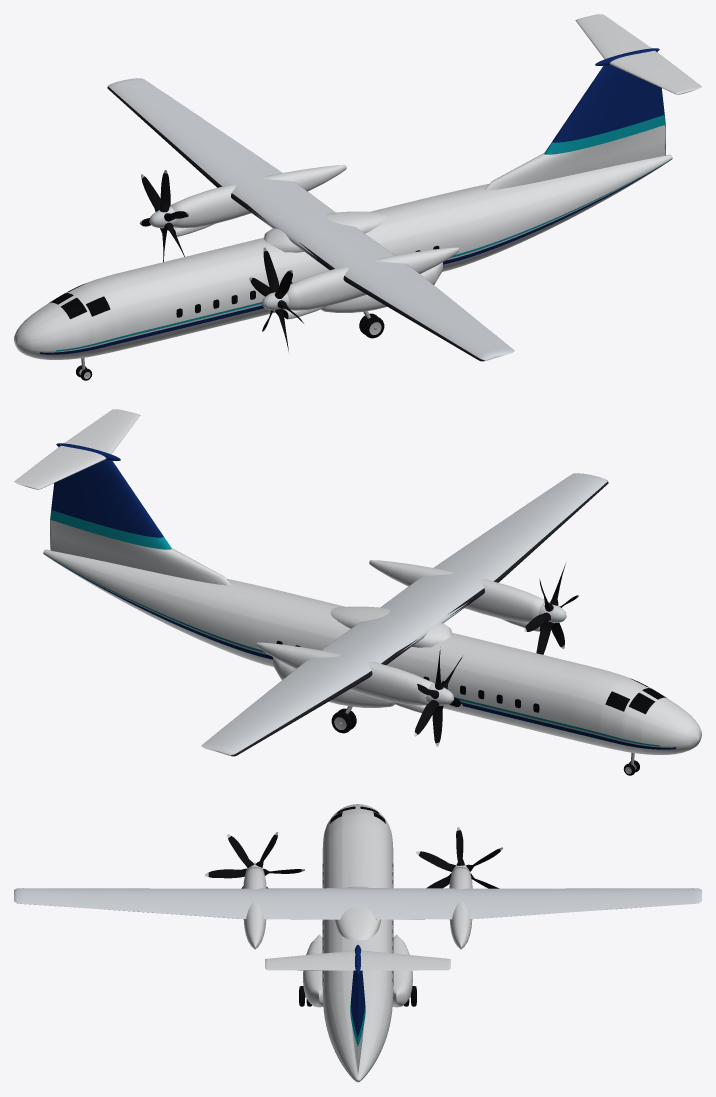
File: turboprop_atr72.light.glb
3 views of the same model, one above another, from view 1: azimuth 30°, elevation 25°; view 2: azimuth 150°, elevation 25°; view 3: azimuth 270°, elevation 25° (orthographic). The views are drawn at different scales.
Visible parts, largest first — view 1: fuselage__atr_white, wing__wing_grey, fin__livery_navy, fin__atr_white, horizontal_tail, nacelle_port, nacelle_starboard, fuselage__livery_navy, wing__deice, wing_fairing, fin__livery_teal, sponson_port (+2 smaller); view 2: fuselage__atr_white, wing__wing_grey, fin__livery_navy, fin__atr_white, horizontal_tail, nacelle_starboard, nacelle_port, wing__deice, fuselage__livery_navy, wing_fairing, fin__livery_teal, sponson_starboard (+2 smaller); view 3: wing__wing_grey, fuselage__atr_white, horizontal_tail, nacelle_port, nacelle_starboard, wing_fairing, sponson_port, sponson_starboard, fin__livery_navy.
Boxes of the visible parts, left/top/right/bottom form: fuselage__atr_white: left=14, top=154, right=672, bottom=359; wing__wing_grey: left=108, top=78, right=514, bottom=361; fin__livery_navy: left=552, top=51, right=664, bottom=142; fin__atr_white: left=485, top=124, right=665, bottom=190; horizontal_tail: left=575, top=14, right=701, bottom=94; nacelle_port: left=286, top=247, right=458, bottom=310; nacelle_starboard: left=170, top=165, right=346, bottom=228; fuselage__livery_navy: left=39, top=159, right=671, bottom=354; wing__deice: left=107, top=85, right=484, bottom=361; wing_fairing: left=264, top=211, right=385, bottom=252; fin__livery_teal: left=544, top=115, right=665, bottom=154; sponson_port: left=320, top=262, right=442, bottom=312; fuselage__atr_white: left=43, top=549, right=701, bottom=754; wing__wing_grey: left=201, top=473, right=607, bottom=756; fin__livery_navy: left=51, top=446, right=163, bottom=537; fin__atr_white: left=50, top=519, right=230, bottom=585; horizontal_tail: left=14, top=409, right=140, bottom=489; nacelle_starboard: left=257, top=642, right=434, bottom=705; nacelle_port: left=369, top=560, right=544, bottom=622; wing__deice: left=231, top=480, right=608, bottom=756; fuselage__livery_navy: left=44, top=554, right=676, bottom=749; wing_fairing: left=330, top=606, right=451, bottom=647; fin__livery_teal: left=50, top=510, right=171, bottom=549; sponson_starboard: left=273, top=657, right=395, bottom=707; wing__wing_grey: left=14, top=888, right=701, bottom=919; fuselage__atr_white: left=322, top=804, right=393, bottom=1082; horizontal_tail: left=265, top=950, right=450, bottom=970; nacelle_port: left=243, top=867, right=266, bottom=949; nacelle_starboard: left=449, top=867, right=472, bottom=949; wing_fairing: left=334, top=886, right=381, bottom=940; sponson_port: left=303, top=934, right=323, bottom=1007; sponson_starboard: left=392, top=934, right=412, bottom=1007; fin__livery_navy: left=351, top=970, right=364, bottom=1036.
Bounding box in the file's own units: 27.17 × 7.65 × 27.05.
